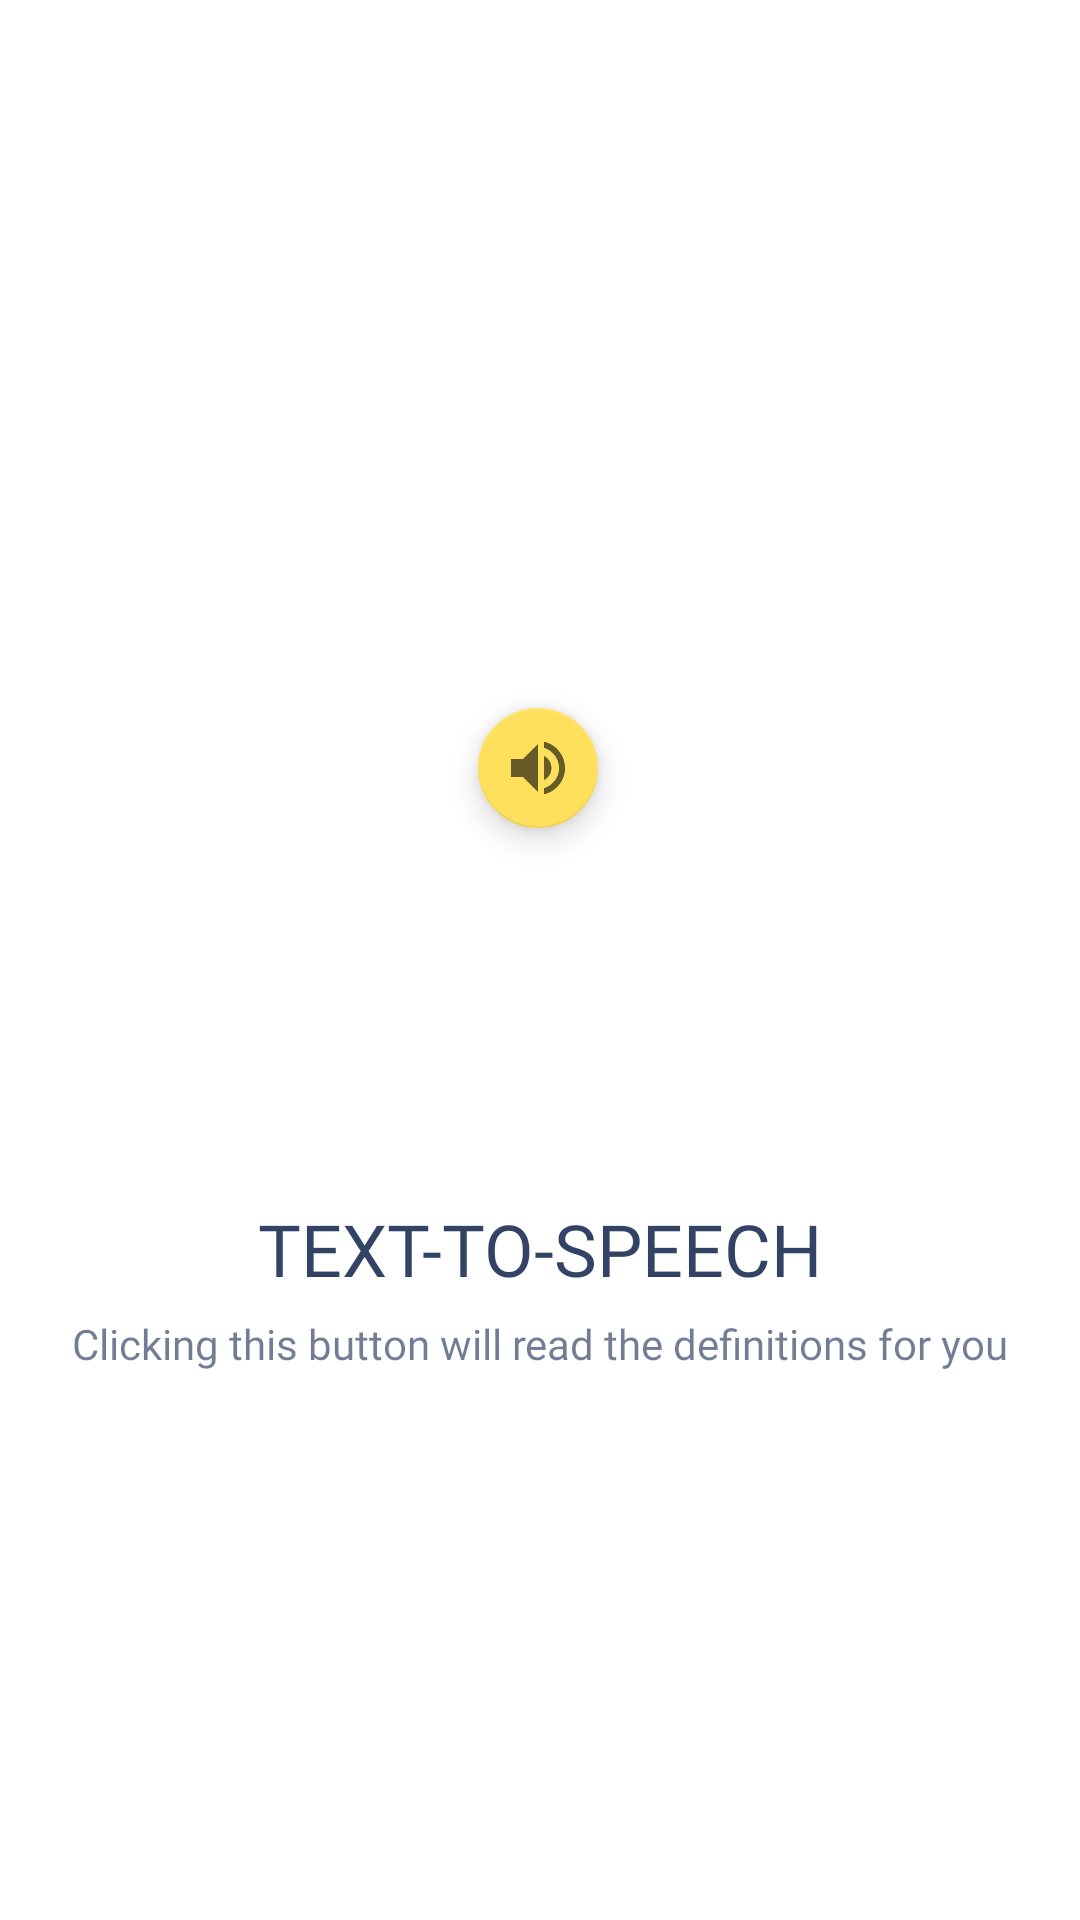

Point at icon controls on the screen. Image size 1080x1920, points as [x,y].
volume up: [538,768]
